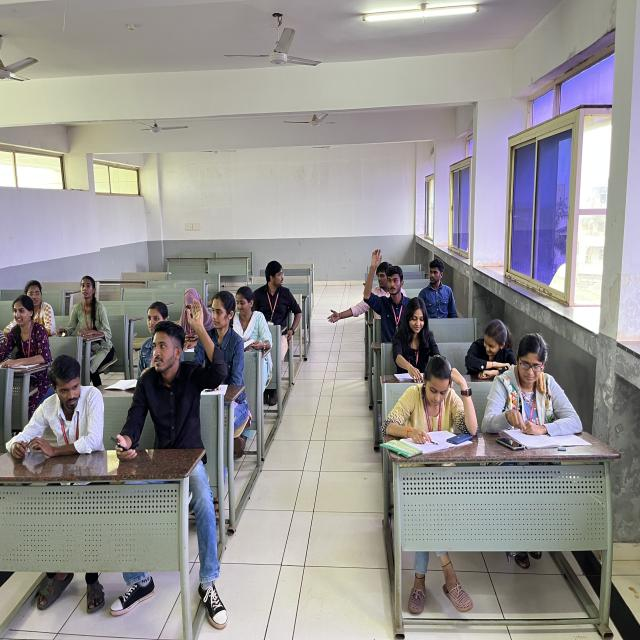Hand Rising: (138, 296, 220, 444), (364, 246, 409, 356)
Reading: (479, 329, 594, 446), (377, 351, 485, 464), (222, 282, 276, 374), (391, 292, 441, 383)
Sleeping: (456, 317, 524, 383)
Using Phone: (168, 282, 222, 354)
